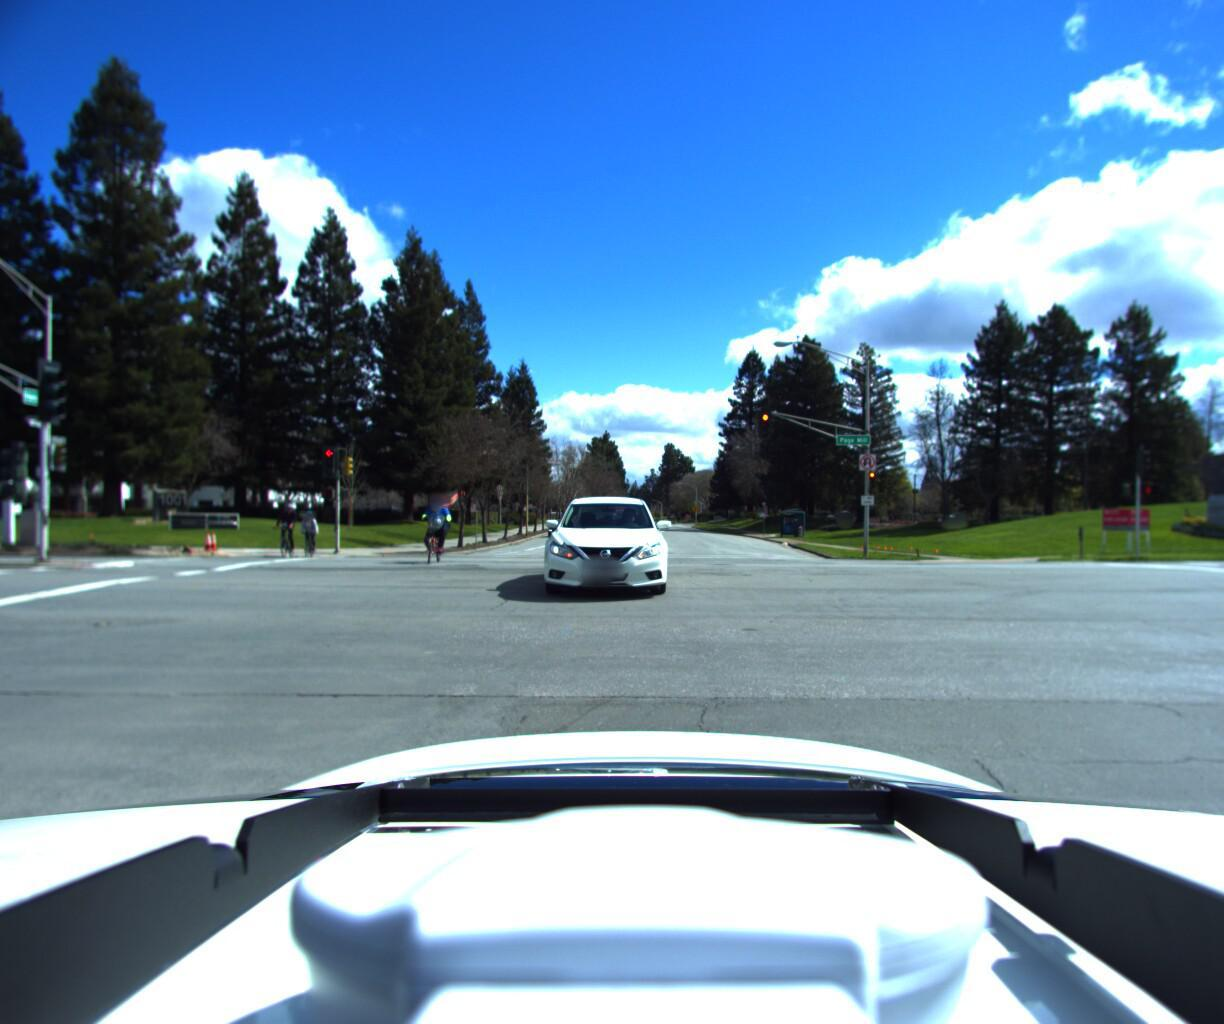bicycle: (399, 499, 460, 577), (266, 513, 301, 568), (291, 516, 320, 567)
car: (531, 503, 667, 614)
